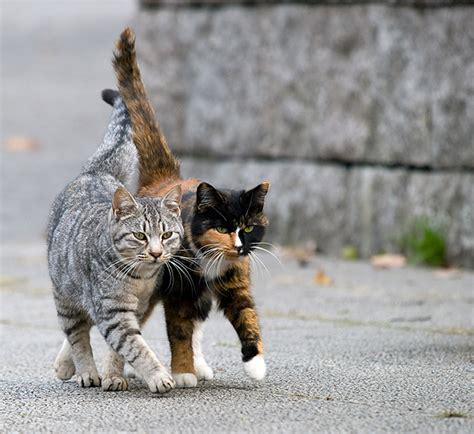cat: (114, 28, 267, 387), (47, 90, 183, 390)
